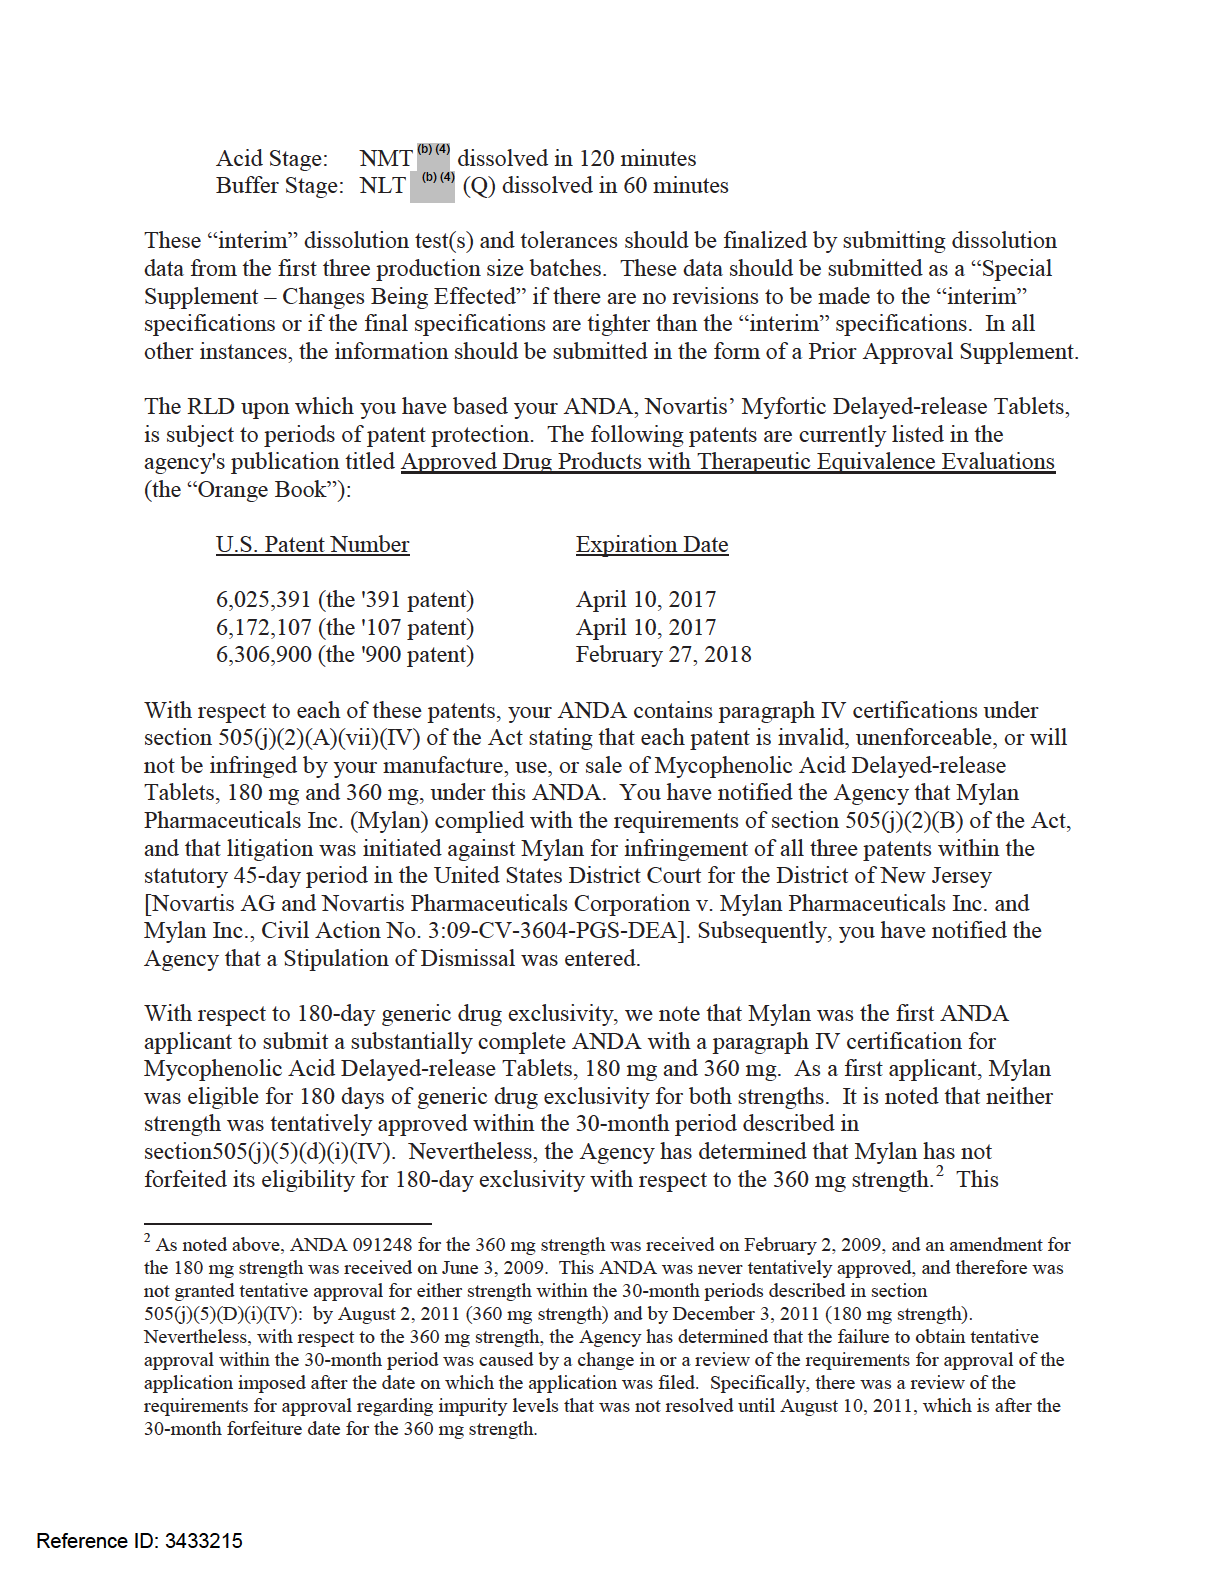nolines: (215, 531, 753, 669)
